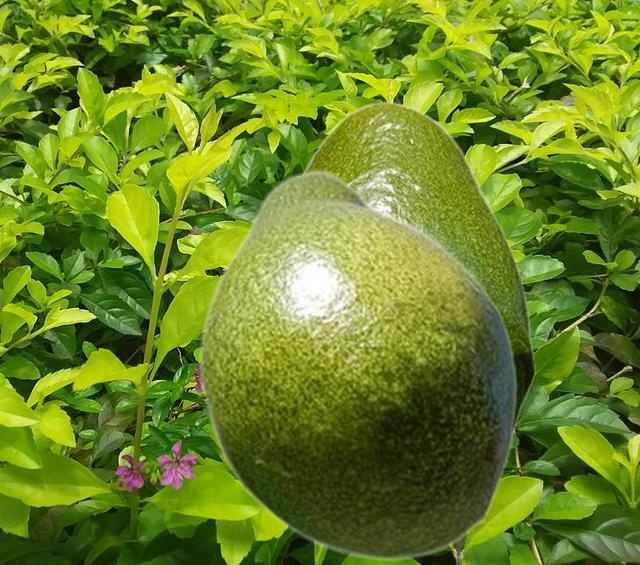avocado: (197, 169, 517, 562), (302, 100, 535, 430)
